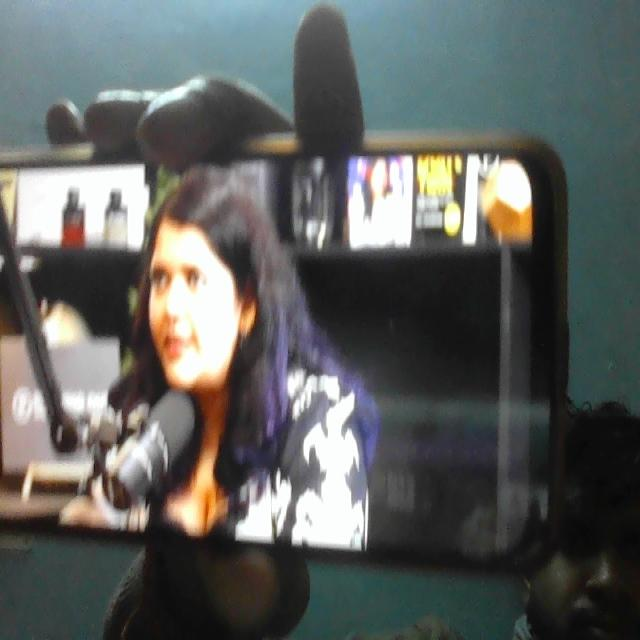fake: (133, 153, 266, 404)
